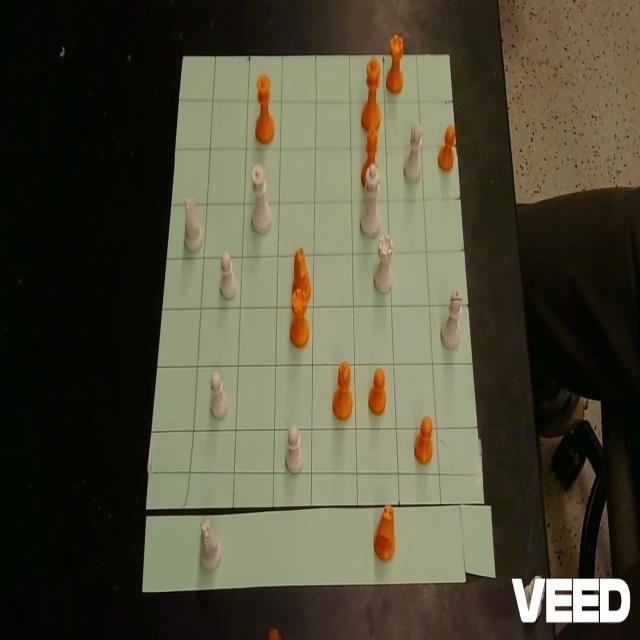orange_bishop: (332, 361, 353, 420), (362, 126, 378, 185)
orange_king: (361, 58, 381, 132)
orange_knight: (374, 504, 396, 560), (292, 246, 311, 304), (267, 628, 282, 639)
orange_pawn: (414, 415, 434, 464), (438, 122, 456, 171), (368, 367, 386, 415)
orange_queen: (255, 72, 275, 143)
orange_rook: (290, 287, 310, 347), (386, 32, 404, 92)
white_bishop: (440, 288, 462, 350), (404, 120, 422, 182)
white_king: (360, 162, 380, 237)
white_knight: (199, 517, 222, 571), (184, 197, 204, 252)
white_pawn: (210, 368, 228, 419), (286, 425, 304, 474), (220, 250, 238, 299)
white_queen: (250, 163, 272, 234)
white_rook: (374, 234, 394, 293)
